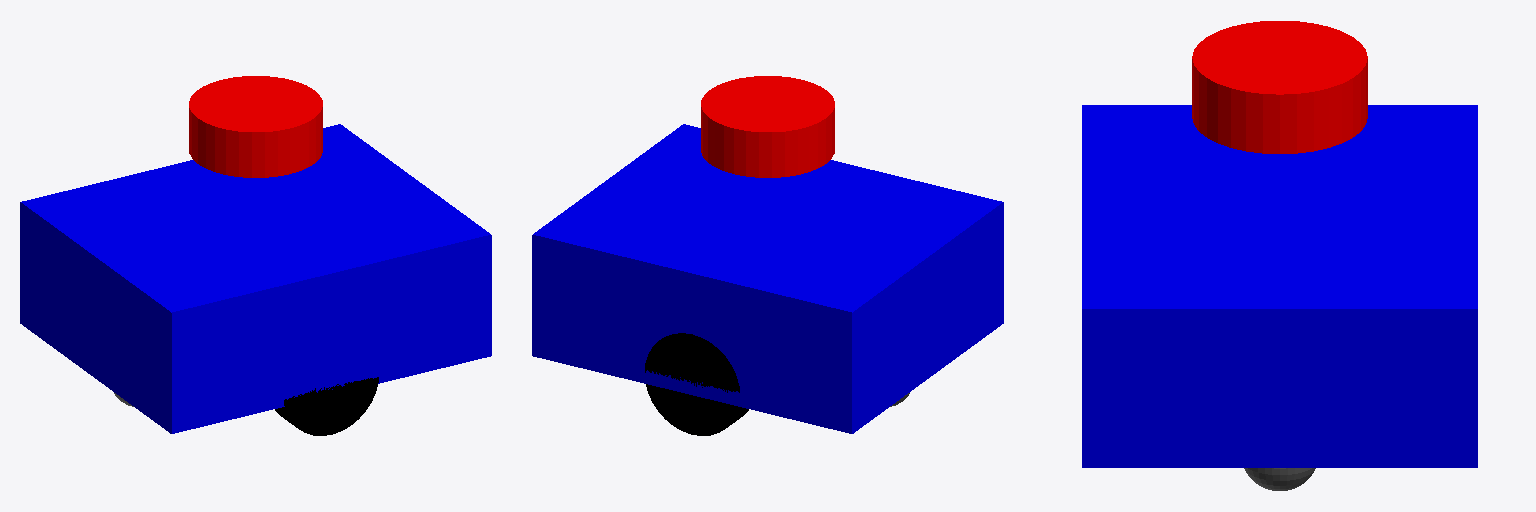
robot.urdf — diff_robot_2d:
<?xml version="1.0"?>
<robot name="diff_robot_2d">

  <!-- 空 link 作为 footprint（diff_drive 里程计 child frame） -->
  <link name="base_footprint"/>

  <joint name="base_footprint_joint" type="fixed">
    <parent link="base_footprint"/>
    <child link="base_link"/>
    <origin xyz="0 0 0.06" rpy="0 0 0"/>
  </joint>

  <!-- 底盘 -->
  <link name="base_link">
    <visual>
      <geometry><box size="0.22 0.18 0.08"/></geometry>
      <material name="blue"><color rgba="0.0 0.0 1.0 1.0"/></material>
    </visual>
    <collision>
      <geometry><box size="0.22 0.18 0.08"/></geometry>
    </collision>
    <inertial>
      <mass value="1.5"/>
      <inertia ixx="0.008" ixy="0.0" ixz="0.0" iyy="0.010" iyz="0.0" izz="0.012"/>
    </inertial>
  </link>

  <gazebo reference="base_link">
    <material>Gazebo/Blue</material>
  </gazebo>

  <!-- 左驱动轮 -->
  <link name="wheel_left">
    <visual>
      <geometry><cylinder length="0.02" radius="0.033"/></geometry>
      <material name="black"><color rgba="0.0 0.0 0.0 1.0"/></material>
    </visual>
    <collision>
      <geometry><cylinder length="0.02" radius="0.033"/></geometry>
    </collision>
    <inertial>
      <mass value="0.03"/>
      <inertia ixx="0.00001" ixy="0.0" ixz="0.0" iyy="0.00001" iyz="0.0" izz="0.00001"/>
    </inertial>
  </link>

  <gazebo reference="wheel_left">
    <material>Gazebo/Black</material>
  </gazebo>

  <joint name="wheel_left_joint" type="continuous">
    <parent link="base_link"/>
    <child link="wheel_left"/>
    <origin xyz="0 0.08 -0.033" rpy="-1.5708 0 0"/>
    <axis xyz="0 0 1"/>
  </joint>

  <!-- 右驱动轮 -->
  <link name="wheel_right">
    <visual>
      <geometry><cylinder length="0.02" radius="0.033"/></geometry>
      <material name="black"><color rgba="0.0 0.0 0.0 1.0"/></material>
    </visual>
    <collision>
      <geometry><cylinder length="0.02" radius="0.033"/></geometry>
    </collision>
    <inertial>
      <mass value="0.03"/>
      <inertia ixx="0.00001" ixy="0.0" ixz="0.0" iyy="0.00001" iyz="0.0" izz="0.00001"/>
    </inertial>
  </link>

  <gazebo reference="wheel_right">
    <material>Gazebo/Black</material>
  </gazebo>

  <joint name="wheel_right_joint" type="continuous">
    <parent link="base_link"/>
    <child link="wheel_right"/>
    <origin xyz="0 -0.08 -0.033" rpy="-1.5708 0 0"/>
    <axis xyz="0 0 1"/>
  </joint>

  <!-- 前万向轮 -->
  <link name="caster_front">
    <visual>
      <geometry><sphere radius="0.018"/></geometry>
      <material name="grey"><color rgba="0.4 0.4 0.4 1.0"/></material>
    </visual>
    <collision>
      <geometry><sphere radius="0.018"/></geometry>
    </collision>
    <inertial>
      <mass value="0.01"/>
      <inertia ixx="0.000001" ixy="0.0" ixz="0.0" iyy="0.000001" iyz="0.0" izz="0.000001"/>
    </inertial>
  </link>

  <gazebo reference="caster_front">
    <material>Gazebo/Grey</material>
  </gazebo>

  <joint name="caster_front_joint" type="fixed">
    <parent link="base_link"/>
    <child link="caster_front"/>
    <origin xyz="0.08 0 -0.046" rpy="0 0 0"/>
  </joint>

  <!-- 后万向轮 -->
  <link name="caster_back">
    <visual>
      <geometry><sphere radius="0.018"/></geometry>
      <material name="grey"><color rgba="0.4 0.4 0.4 1.0"/></material>
    </visual>
    <collision>
      <geometry><sphere radius="0.018"/></geometry>
    </collision>
    <inertial>
      <mass value="0.01"/>
      <inertia ixx="0.000001" ixy="0.0" ixz="0.0" iyy="0.000001" iyz="0.0" izz="0.000001"/>
    </inertial>
  </link>

  <gazebo reference="caster_back">
    <material>Gazebo/Grey</material>
  </gazebo>

  <joint name="caster_back_joint" type="fixed">
    <parent link="base_link"/>
    <child link="caster_back"/>
    <origin xyz="-0.08 0 -0.046" rpy="0 0 0"/>
  </joint>

  <!-- 2D 单线 LiDAR 安装架 -->
  <link name="laser">
    <visual>
      <geometry><cylinder length="0.03" radius="0.04"/></geometry>
      <material name="red"><color rgba="1.0 0.0 0.0 1.0"/></material>
    </visual>
    <collision>
      <geometry><cylinder length="0.03" radius="0.04"/></geometry>
    </collision>
    <inertial>
      <mass value="0.15"/>
      <inertia ixx="0.0001" ixy="0.0" ixz="0.0" iyy="0.0001" iyz="0.0" izz="0.0001"/>
    </inertial>
  </link>

  <gazebo reference="laser">
    <material>Gazebo/Red</material>
  </gazebo>

  <joint name="laser_joint" type="fixed">
    <parent link="base_link"/>
    <child link="laser"/>
    <origin xyz="0 0 0.1" rpy="0 0 0"/>
  </joint>

  <!-- Gazebo 差分驱动插件 -->
  <gazebo>
    <plugin name="diff_drive" filename="libgazebo_ros_diff_drive.so">
      <ros>
        <namespace>/</namespace>
      </ros>
      <update_rate>30</update_rate>
      <left_joint>wheel_left_joint</left_joint>
      <right_joint>wheel_right_joint</right_joint>
      <wheel_separation>0.16</wheel_separation>
      <wheel_diameter>0.066</wheel_diameter>
      <max_wheel_torque>20</max_wheel_torque>
      <max_wheel_acceleration>1.0</max_wheel_acceleration>
      <publish_odom>true</publish_odom>
      <publish_odom_tf>true</publish_odom_tf>
      <publish_wheel_tf>false</publish_wheel_tf>
      <odometry_frame>odom</odometry_frame>
      <robot_base_frame>base_footprint</robot_base_frame>
    </plugin>
  </gazebo>

  <!-- 单线 LiDAR 传感器 -->
  <gazebo reference="laser">
    <sensor type="ray" name="laser_2d">
      <pose>0 0 0 0 0 0</pose>
      <always_on>true</always_on>
      <visualize>false</visualize>
      <update_rate>10</update_rate>

      <ray>
        <scan>
          <horizontal>
            <samples>720</samples>
            <resolution>1</resolution>
            <min_angle>-3.14159</min_angle>
            <max_angle>3.14159</max_angle>
          </horizontal>
          <vertical>
            <samples>1</samples>
            <resolution>1</resolution>
            <min_angle>0</min_angle>
            <max_angle>0</max_angle>
          </vertical>
        </scan>
        <range>
          <min>0.05</min>
          <max>12.0</max>
          <resolution>0.01</resolution>
        </range>
        <noise>
          <type>gaussian</type>
          <mean>0.0</mean>
          <stddev>0.01</stddev>
        </noise>
      </ray>

      <plugin name="gazebo_ros_ray_sensor" filename="libgazebo_ros_ray_sensor.so">
        <ros>
          <namespace>/</namespace>
          <remapping>~/out:=/scan</remapping>
        </ros>
        <output_type>sensor_msgs/LaserScan</output_type>
        <frame_name>laser</frame_name>
      </plugin>
    </sensor>
  </gazebo>

  <!-- IMU 传感器 -->
  <gazebo reference="base_link">
    <sensor name="imu_2d" type="imu">
      <always_on>true</always_on>
      <update_rate>200</update_rate>
      <visualize>false</visualize>

      <plugin name="imu_2d_plugin" filename="libgazebo_ros_imu_sensor.so">
        <ros>
          <namespace>/</namespace>
          <remapping>~/out:=/imu</remapping>
        </ros>
        <initial_orientation_as_reference>false</initial_orientation_as_reference>
      </plugin>

      <imu>
        <angular_velocity>
          <x><noise type="gaussian"><mean>0.0</mean><stddev>2e-4</stddev></noise></x>
          <y><noise type="gaussian"><mean>0.0</mean><stddev>2e-4</stddev></noise></y>
          <z><noise type="gaussian"><mean>0.0</mean><stddev>2e-4</stddev></noise></z>
        </angular_velocity>
        <linear_acceleration>
          <x><noise type="gaussian"><mean>0.0</mean><stddev>1.7e-2</stddev></noise></x>
          <y><noise type="gaussian"><mean>0.0</mean><stddev>1.7e-2</stddev></noise></y>
          <z><noise type="gaussian"><mean>0.0</mean><stddev>1.7e-2</stddev></noise></z>
        </linear_acceleration>
      </imu>
    </sensor>
  </gazebo>

</robot>

--- What the picture shows (computed from the rendered views, not written in the file) ---
The picture shows the robot from 3 angles, left to right: view 1: azimuth 30°, elevation 25°; view 2: azimuth 150°, elevation 25°; view 3: azimuth 270°, elevation 25°; orthographic projection.
Model diff_robot_2d with 7 links and 6 joints (2 continuous, 4 fixed), rooted at base_footprint, posed all joints at 0.
Links seen in each view (by area): view 1: base_link, laser, wheel_right; view 2: base_link, laser, wheel_left; view 3: base_link, laser, caster_front.
Link boxes in pixels (x1,y1,x2,y2): base_link: (20, 124, 491, 433); laser: (189, 76, 322, 177); wheel_right: (275, 377, 378, 435); base_link: (532, 124, 1003, 433); laser: (701, 76, 834, 177); wheel_left: (645, 333, 748, 435); base_link: (1082, 105, 1477, 467); laser: (1192, 21, 1367, 153); caster_front: (1244, 468, 1315, 490).
Size in the robot's own frame: 0.22 by 0.18 by 0.181 metres.
Geometry: primitives only (box / cylinder / sphere), no mesh files.
